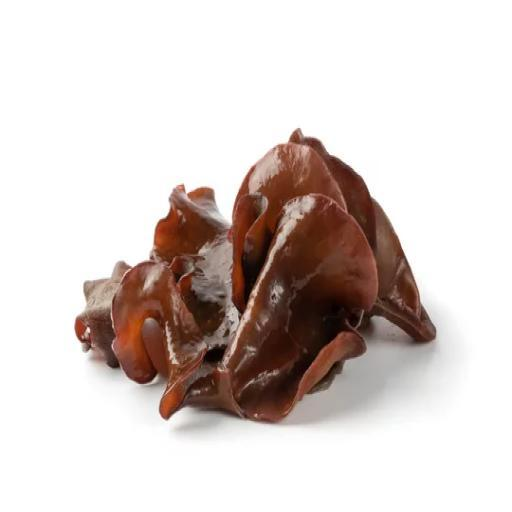mushroom: (74, 128, 442, 431)
